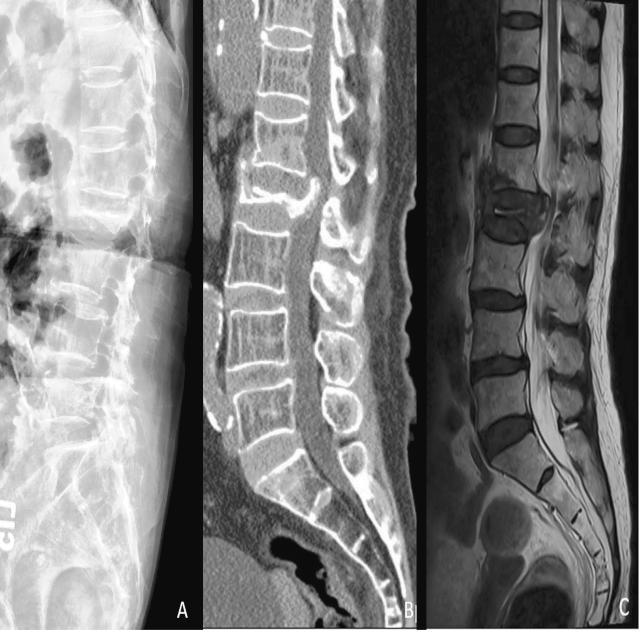Compression-Crush Fracutre: (234, 172, 322, 229)
